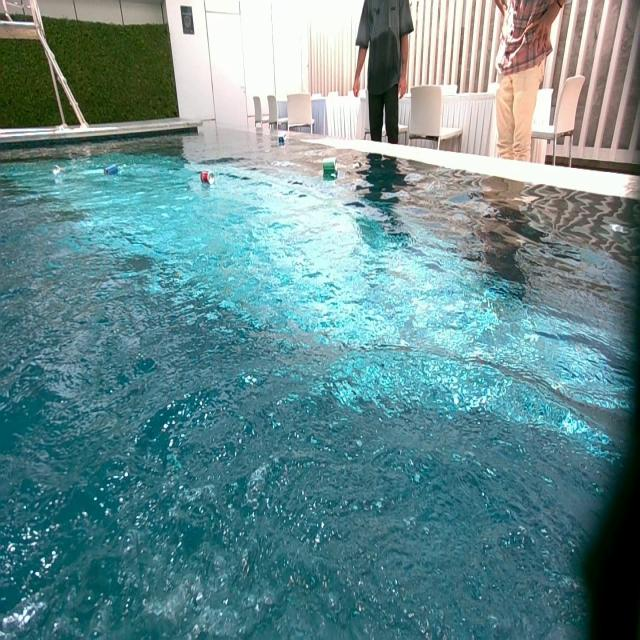Cans: (322, 160, 336, 178), (104, 165, 121, 177), (201, 171, 213, 185), (54, 165, 64, 178), (278, 136, 287, 146)
